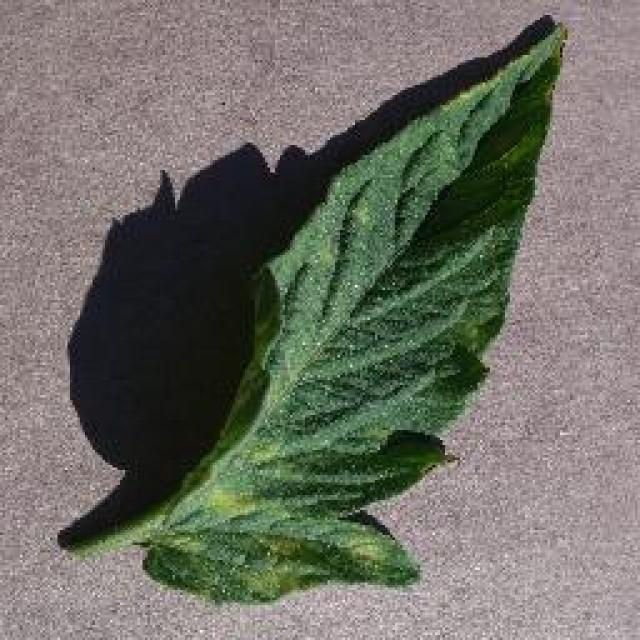Tomato mold leaf: (140, 25, 565, 605)
